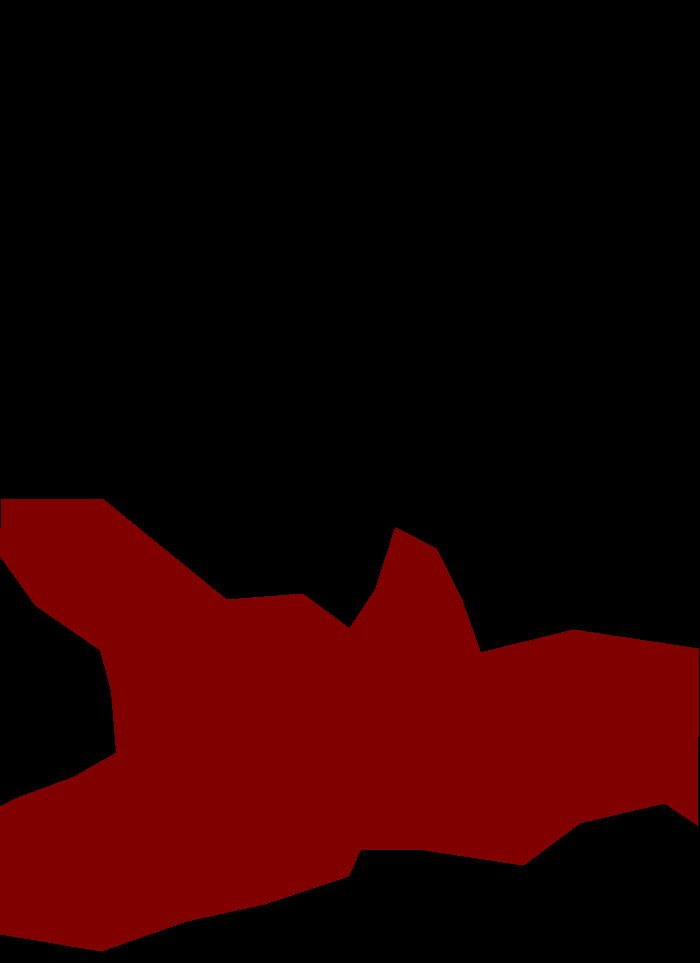fire: (0, 499, 698, 951)
